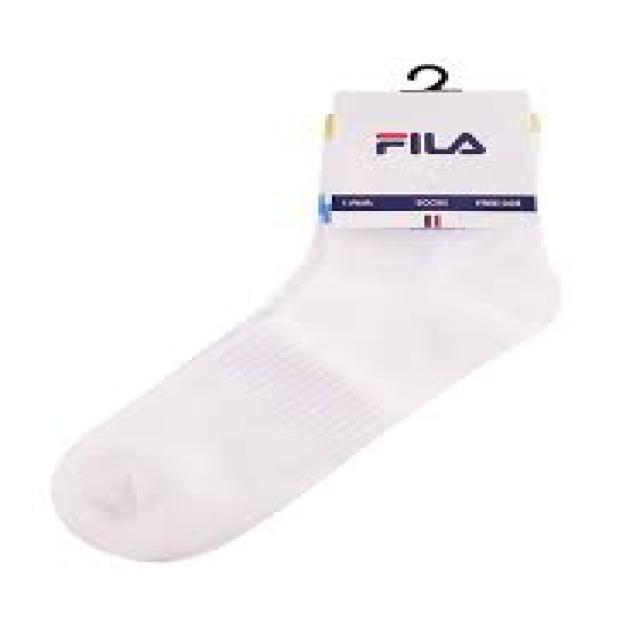sock: (48, 64, 558, 562)
